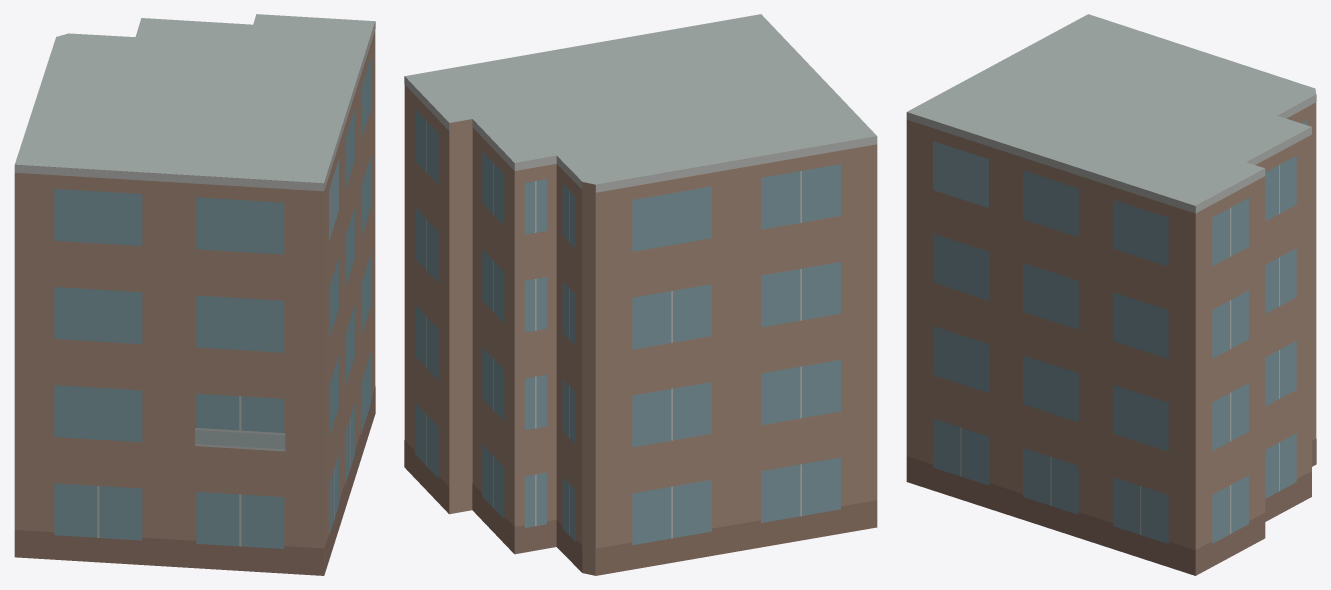
The model's file is survey-upis-32530226.glb.
3 renders of one model, left to right at view 1: azimuth 30°, elevation 25°; view 2: azimuth 150°, elevation 25°; view 3: azimuth 270°, elevation 25°, orthographic. The views are drawn at different scales.
Parts seen in each view (by area): view 1: survey-upis-32530226.tmp; view 2: survey-upis-32530226.tmp; view 3: survey-upis-32530226.tmp.
Boxes of the visible parts, x1,y1,x2,y2 form: survey-upis-32530226.tmp: [14, 14, 375, 575]; survey-upis-32530226.tmp: [404, 14, 877, 575]; survey-upis-32530226.tmp: [906, 14, 1316, 575].
Bounding box in the file's own units: 13.14 × 11.8 × 11.85.
